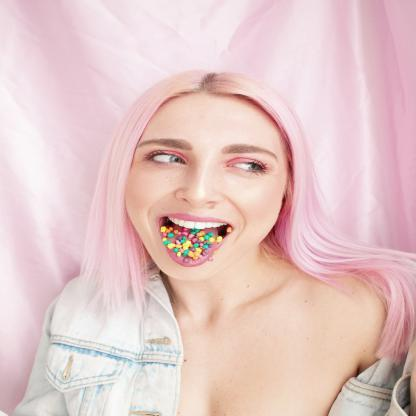Eye: (224, 152, 272, 178), (138, 146, 190, 168)
Mouth: (150, 212, 235, 270)
Nose: (172, 163, 223, 209)
